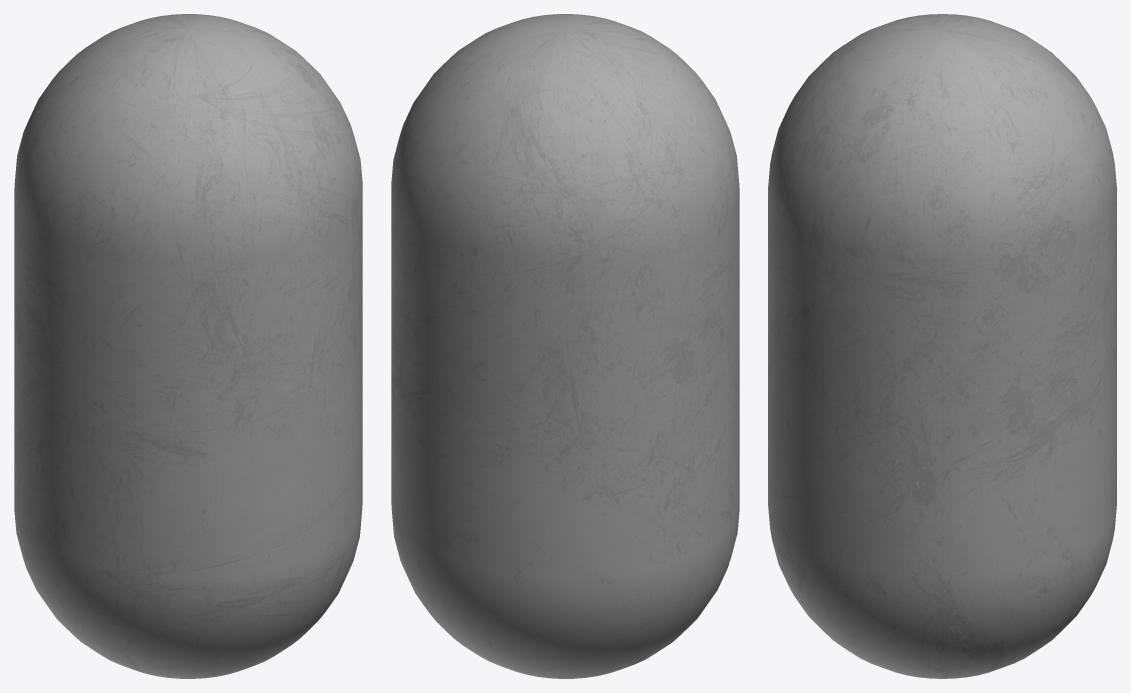
3 views of the same model, side by side, from view 1: azimuth 30°, elevation 25°; view 2: azimuth 150°, elevation 25°; view 3: azimuth 270°, elevation 25° (orthographic).
Parts seen in each view (by area): view 1: Capsule; view 2: Capsule; view 3: Capsule.
Part boxes in pixels (box(x1,y1,x2,y2)): Capsule: box(14, 14, 362, 678); Capsule: box(391, 14, 739, 678); Capsule: box(768, 14, 1116, 678).
Size of the model in its own units: 1 by 2 by 1.
1 material, 1 textured.
